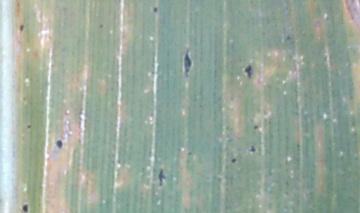tarspot: (181, 48, 193, 80), (242, 63, 257, 82), (156, 166, 168, 188), (54, 138, 65, 150), (247, 143, 259, 154), (20, 202, 30, 212), (230, 156, 239, 166), (17, 23, 25, 34), (98, 22, 106, 31), (252, 124, 261, 132), (151, 6, 159, 14), (284, 34, 293, 41), (24, 123, 32, 130)
